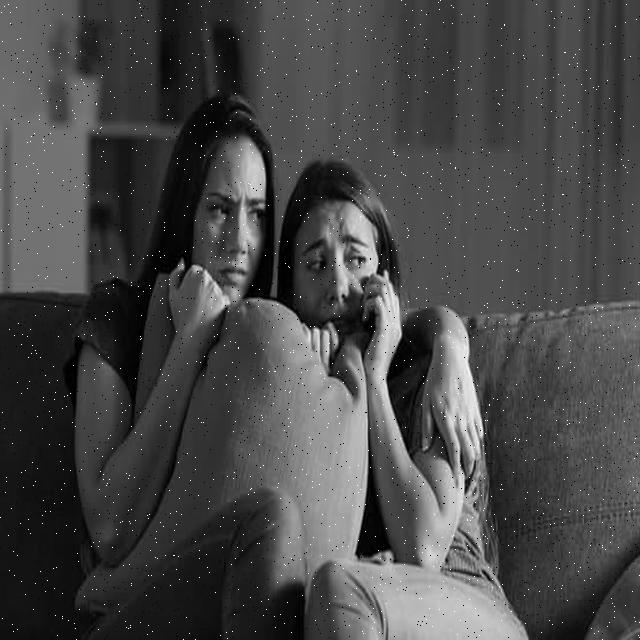Fear: (195, 136, 267, 304), (296, 205, 378, 332)
